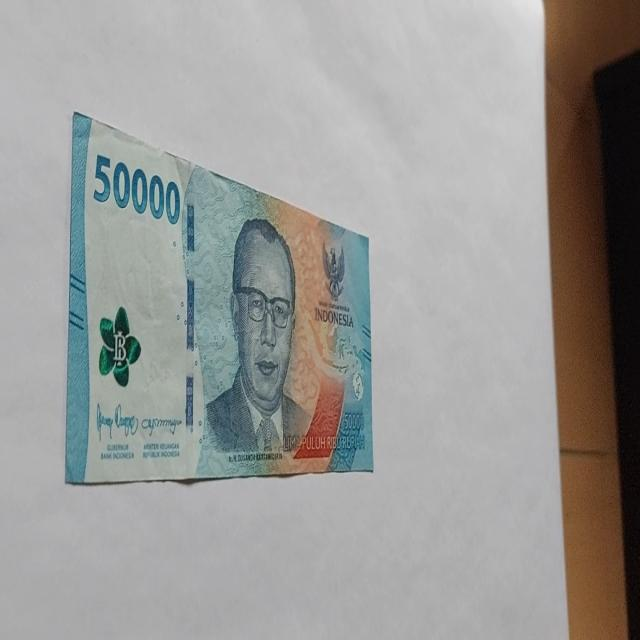lima puluh ribu rupiah: (64, 110, 373, 486), (197, 215, 313, 473), (92, 151, 182, 226)
